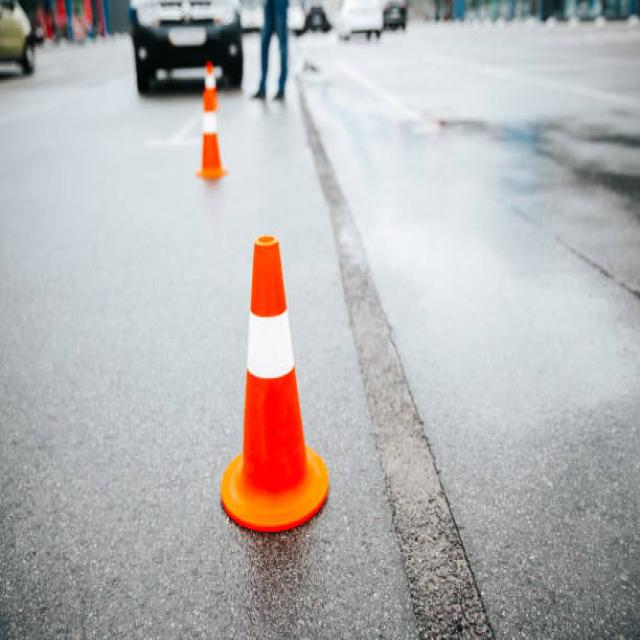Traffic Cone: (208, 211, 350, 560)
